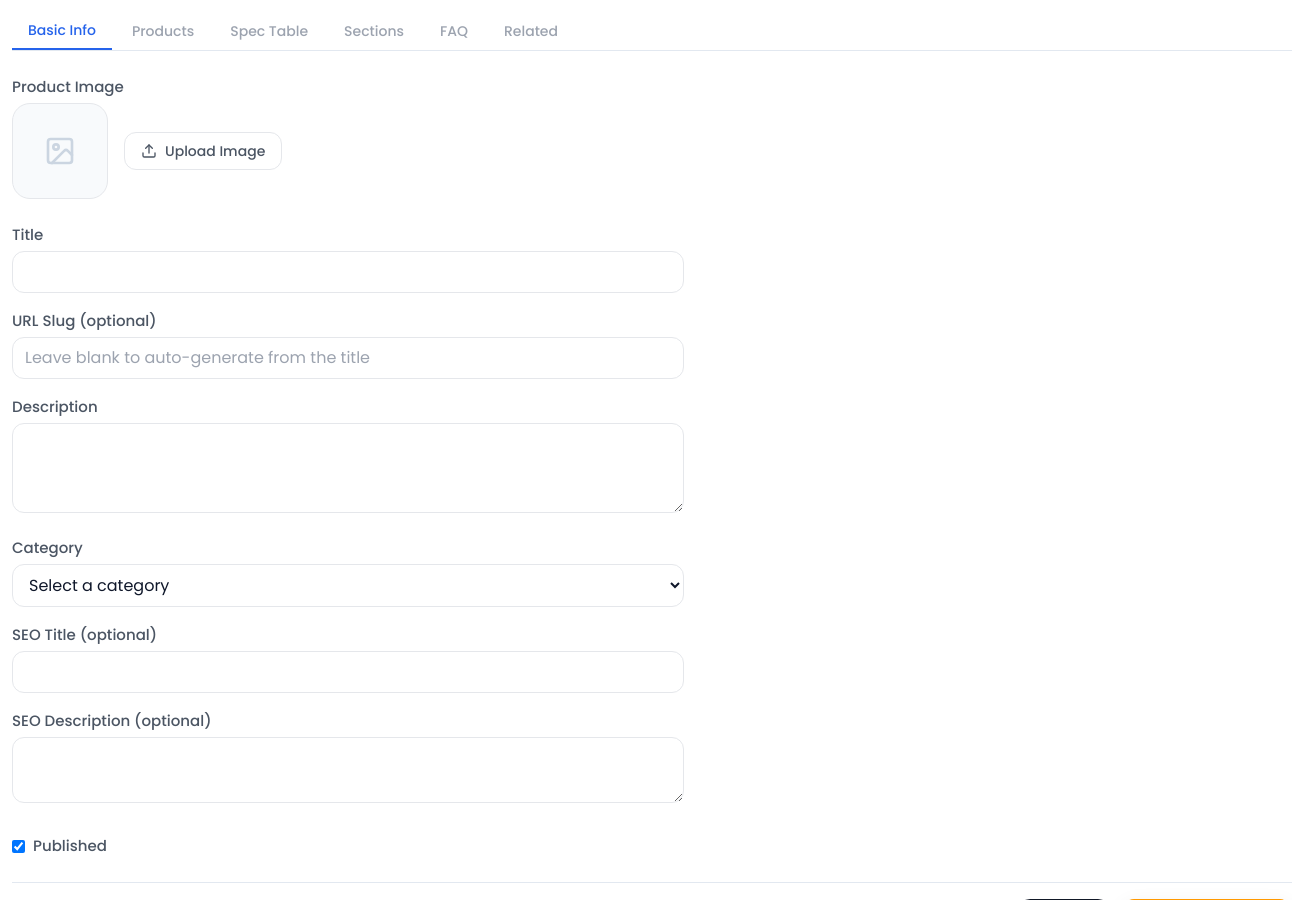
Test: ComparisonForm › auto-syncs the spec table when a product is added, adding a value column
Click the button "Products".
click(163, 31)  # box [116,12,210,50]
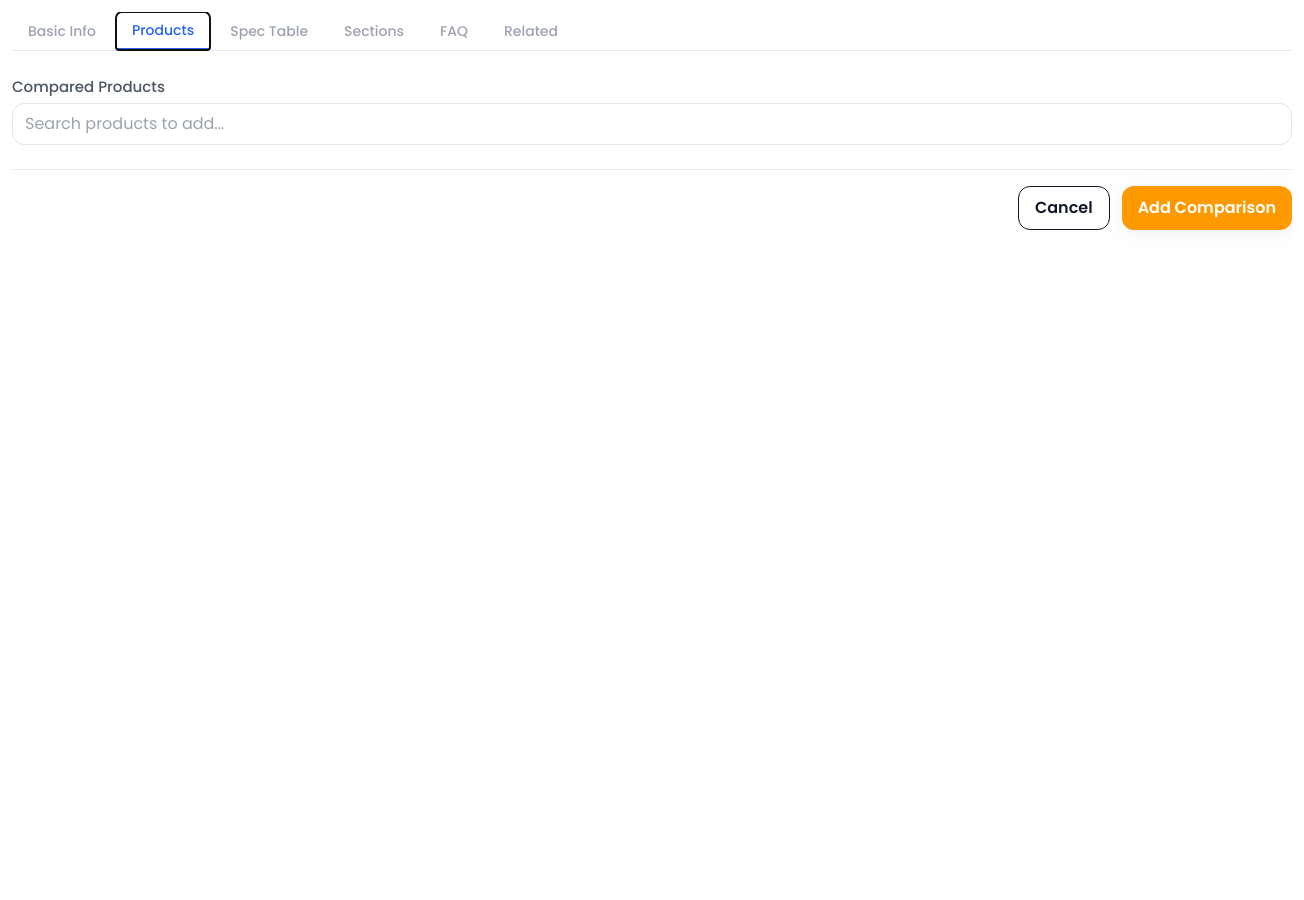
Type "earbuds" into the field labelled "Compared Products".
click(652, 124); type("earbuds")  # box [12,103,1292,145]
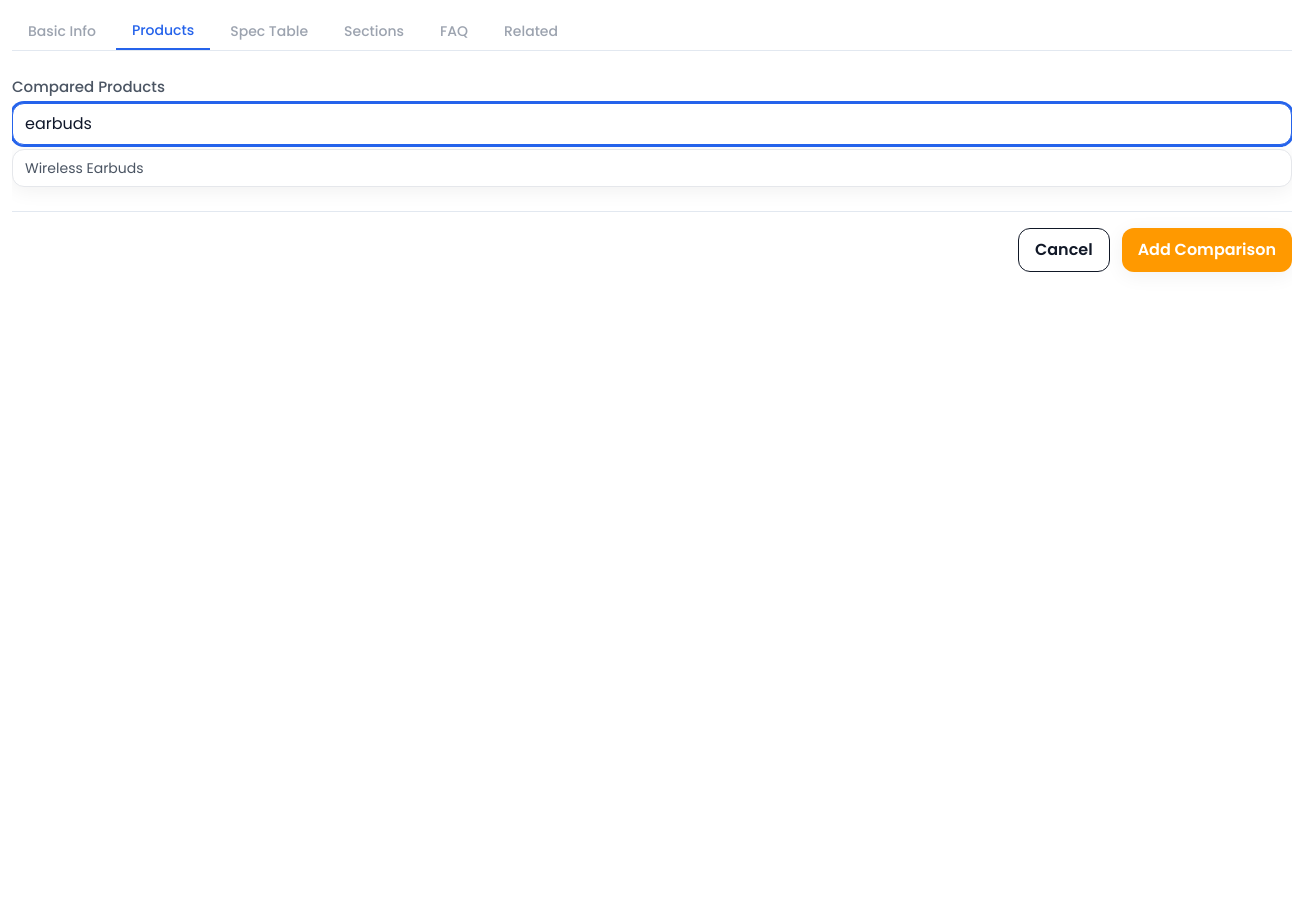
Click the button "Wireless Earbuds".
click(84, 168)  # box [13,150,1291,186]
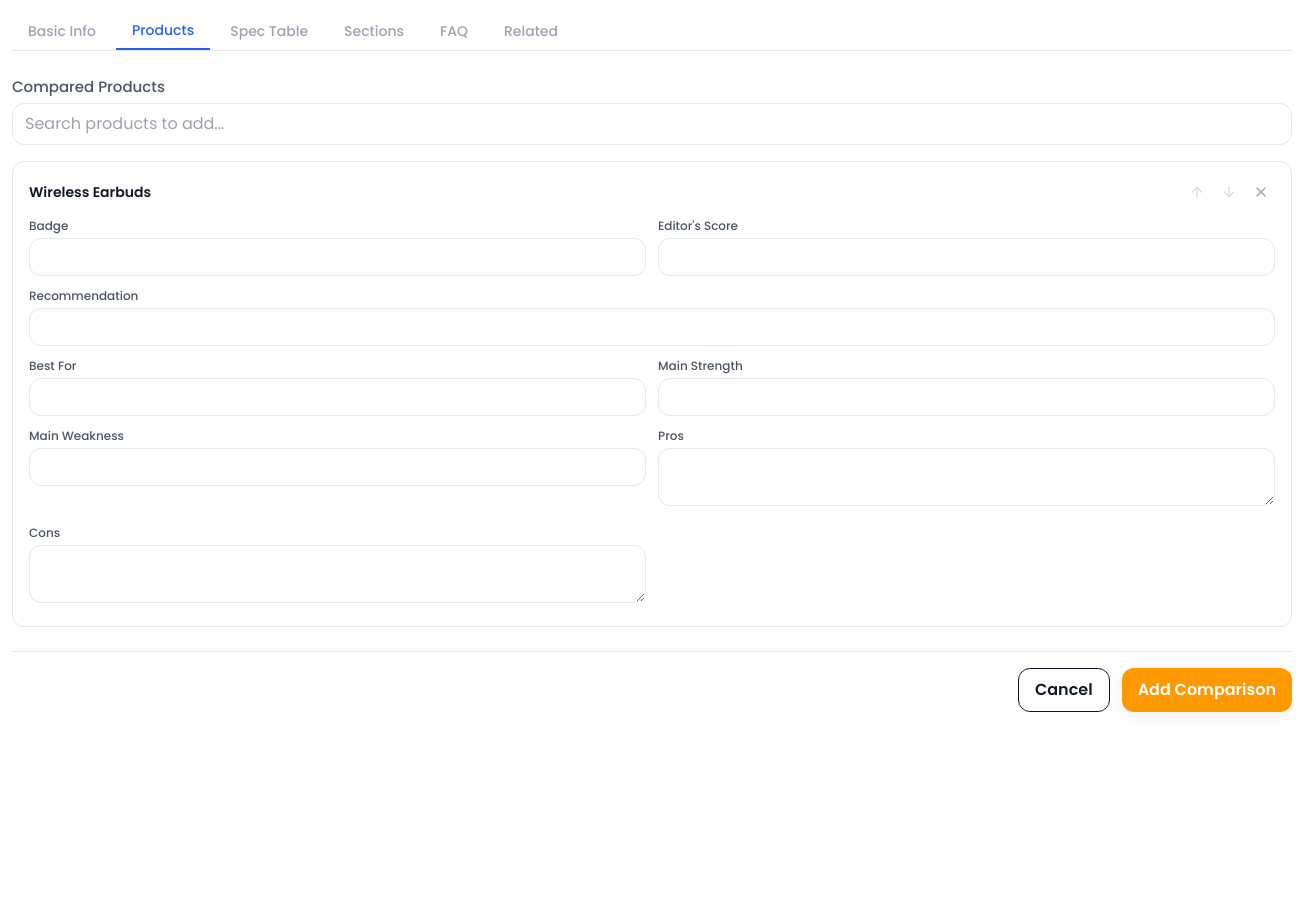
Click the button "Spec Table".
click(269, 31)  # box [214,12,324,50]
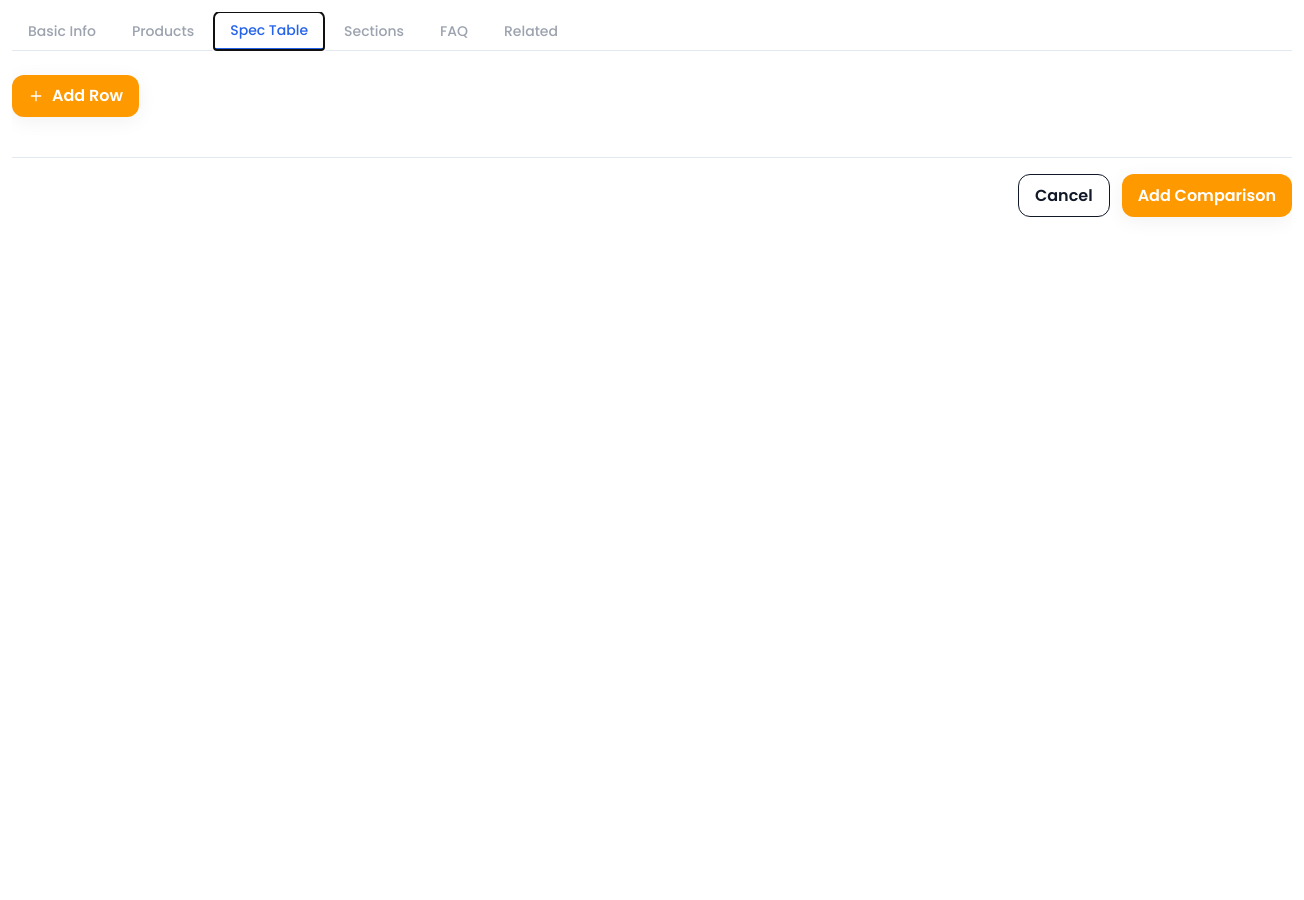
Click the button "Add Row".
click(75, 96)  # box [12,75,139,117]
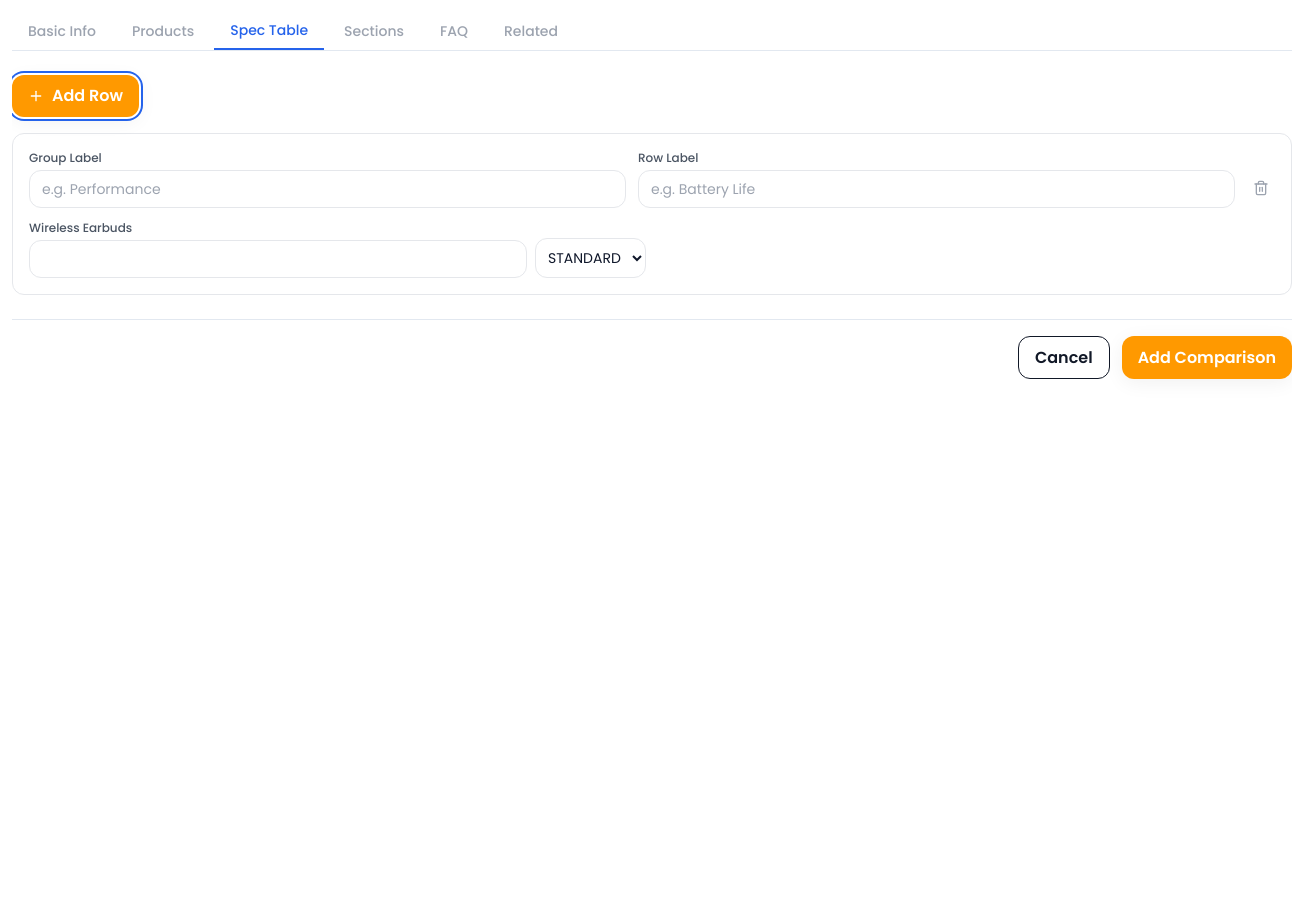
Expected: the field labelled "Wireless Earbuds" is shown, [29,240,527,278]
